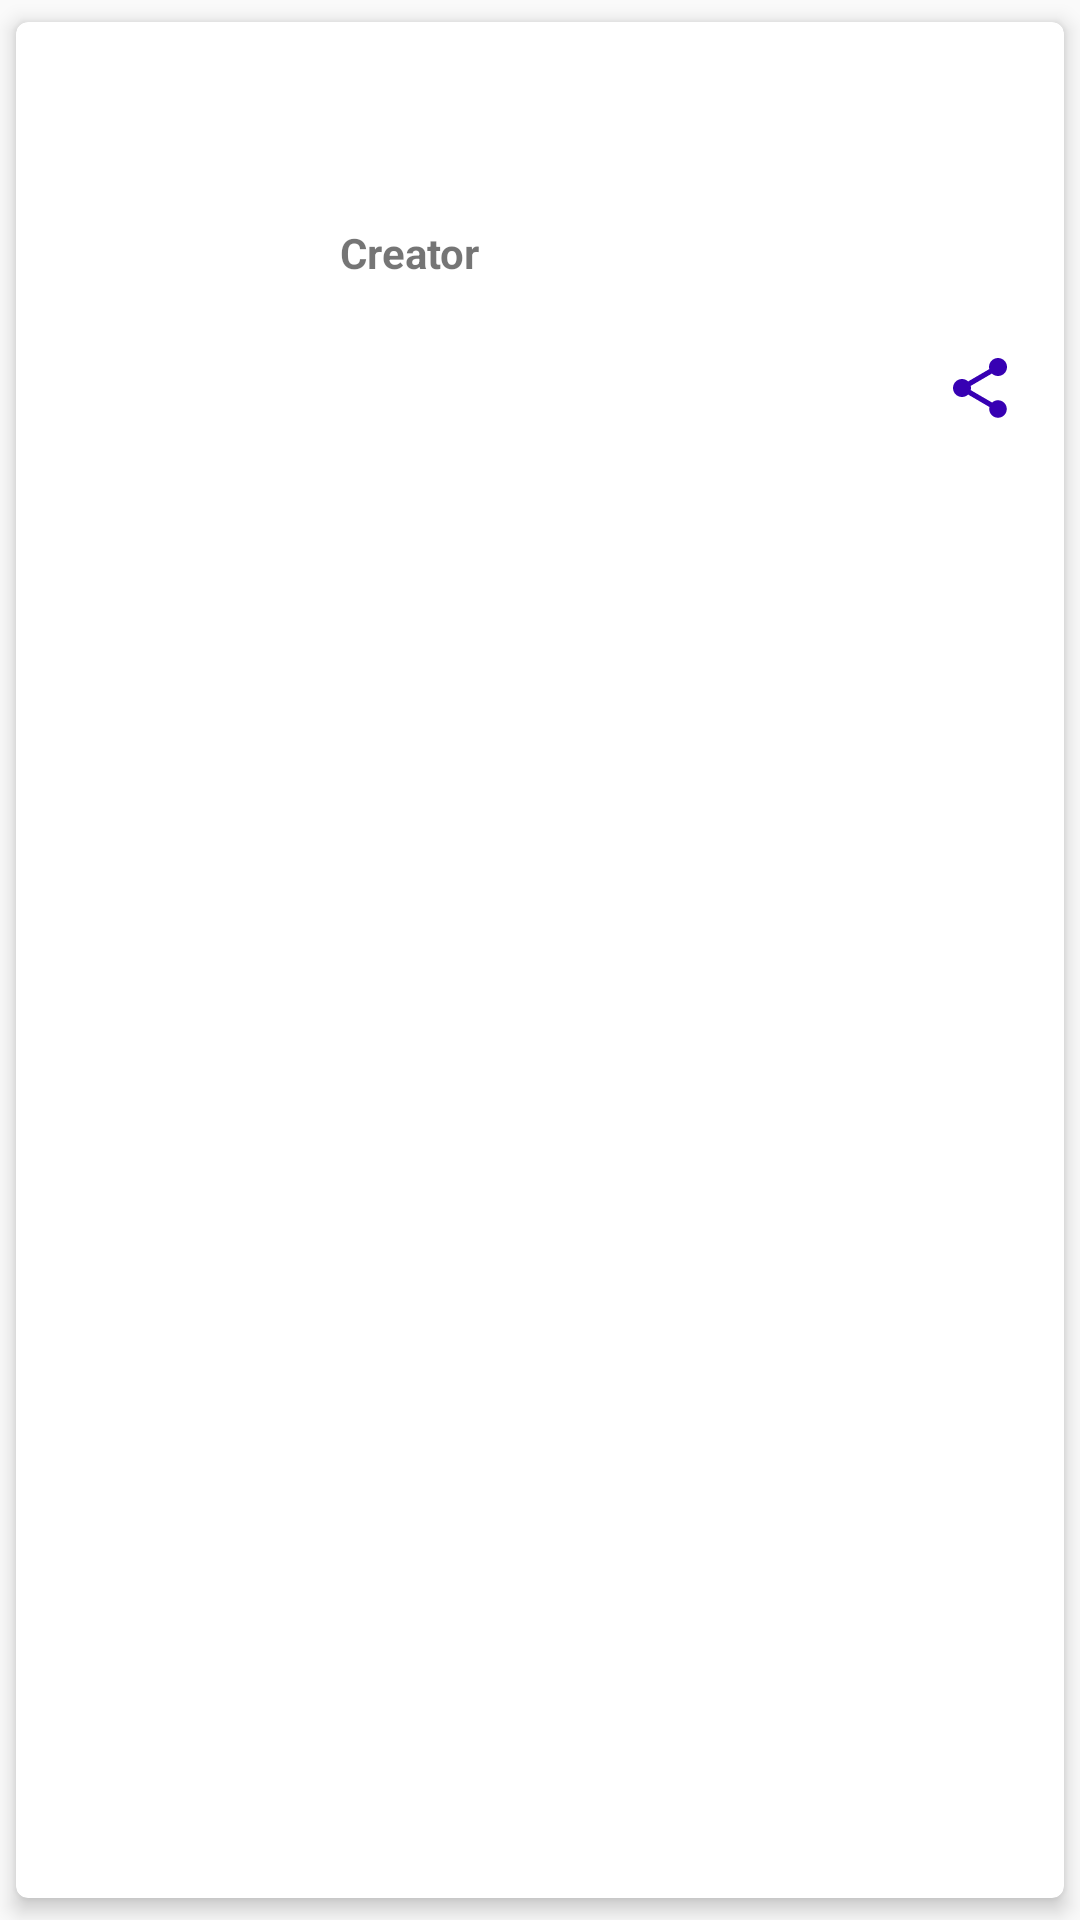

Locate icon controls on the screen. Image size 1080×1920, boxes as rect(x1, y1, x2, y2).
share: rect(953, 358, 1007, 418)
